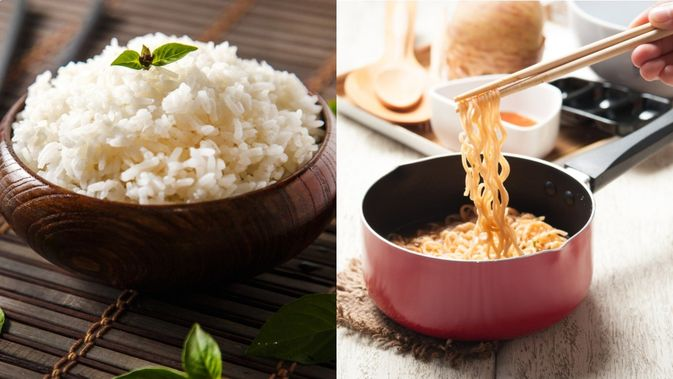Nasi Putih: (2, 42, 322, 262)
